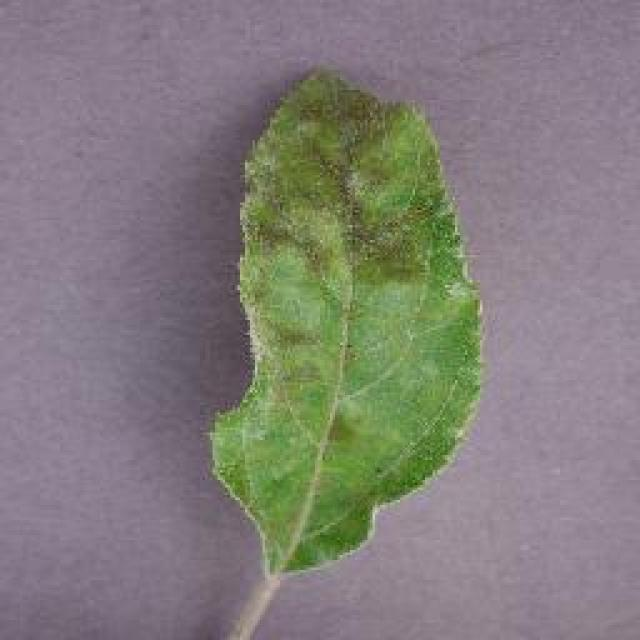apple scab disease: (205, 62, 485, 580)
